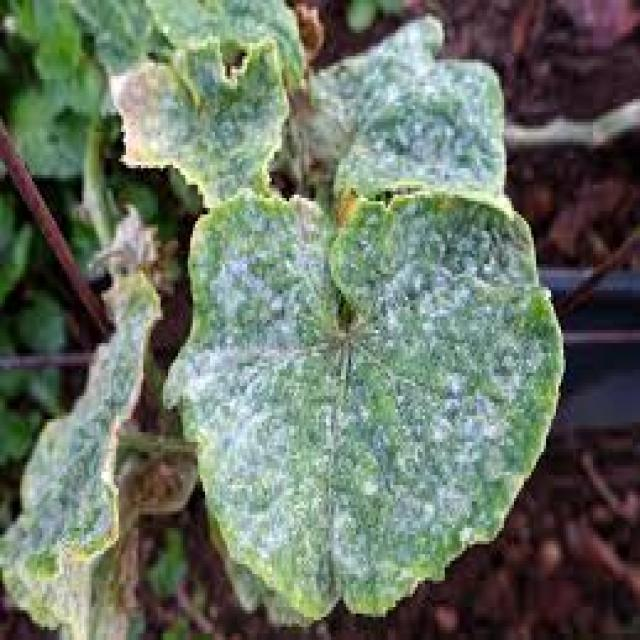powdery-mildew: (212, 205, 494, 602), (352, 32, 492, 185), (140, 71, 282, 177)
